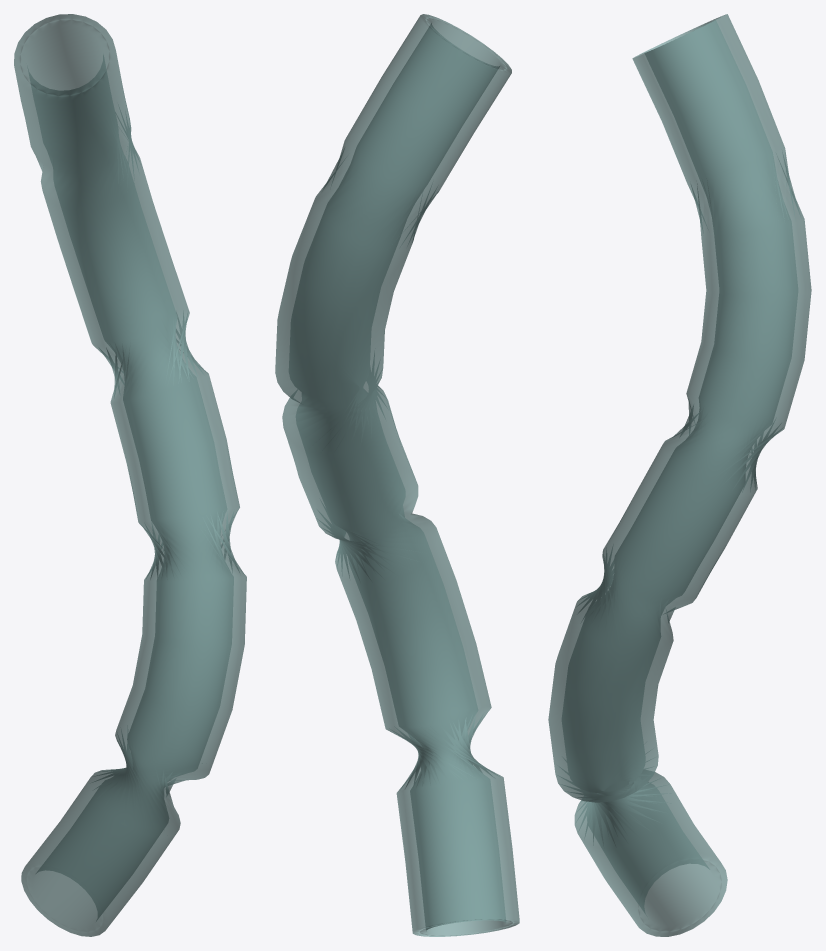
3 views of the same model, side by side, from view 1: azimuth 30°, elevation 25°; view 2: azimuth 150°, elevation 25°; view 3: azimuth 270°, elevation 25° (orthographic). The views are drawn at different scales.
Visible parts, largest first — view 1: TubeSegment; view 2: TubeSegment; view 3: TubeSegment.
Boxes of the visible parts, x1,y1,x2,y2 form: TubeSegment: (14, 14, 246, 936); TubeSegment: (275, 14, 519, 936); TubeSegment: (548, 14, 811, 936).
Bounding box in the file's own units: 0.0177 × 0.0765 × 0.02.
